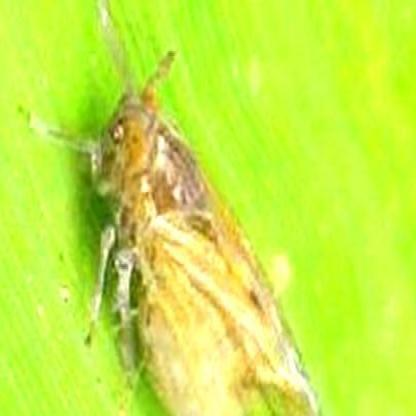brown-planthopper: (82, 63, 322, 416)
